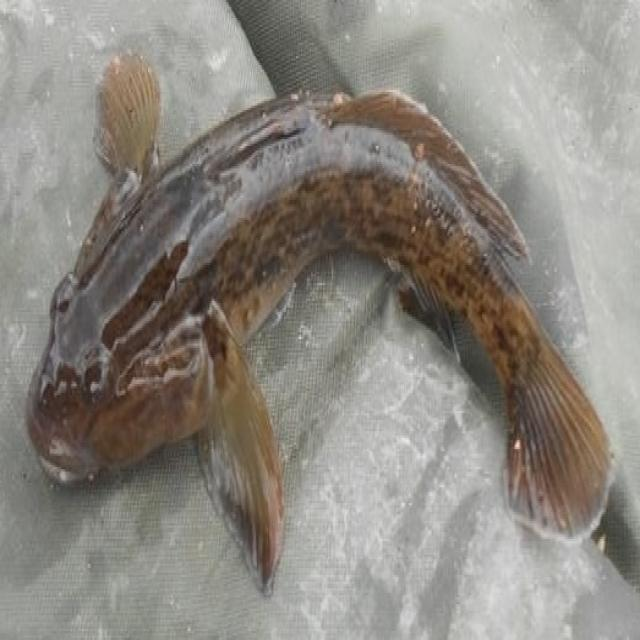Goby: (0, 2, 567, 577)
